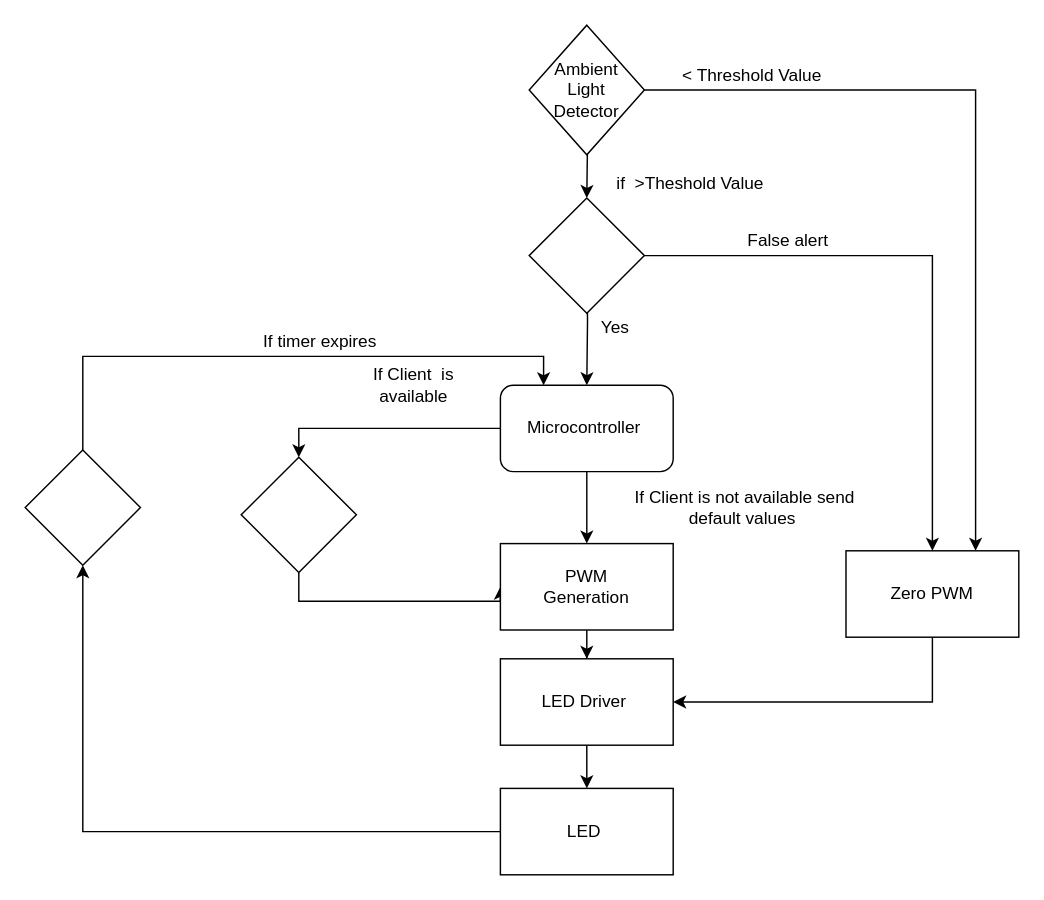
Some shapes in this 1044 by 900 pixel diagram are drawn without their labels. Each missing label, with the centre of its shape:
Presence Detector: [586,255]
Timer: [82,507]
WiFi/ BLE: [298,514]
